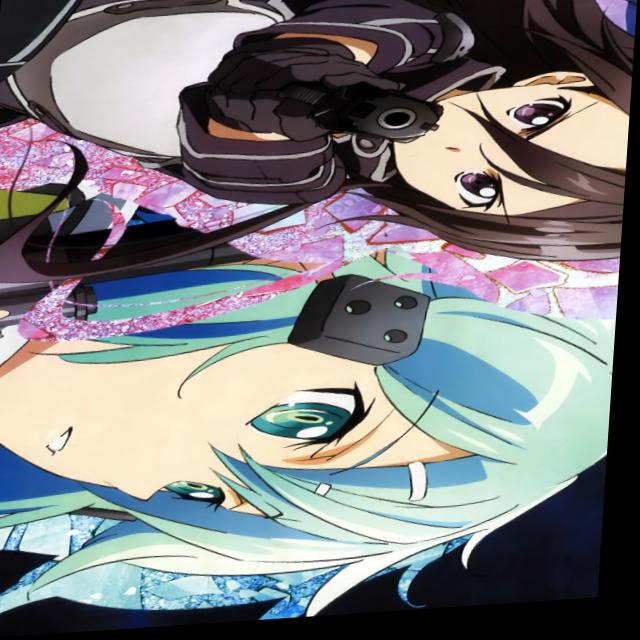handgun: (214, 52, 462, 173)
